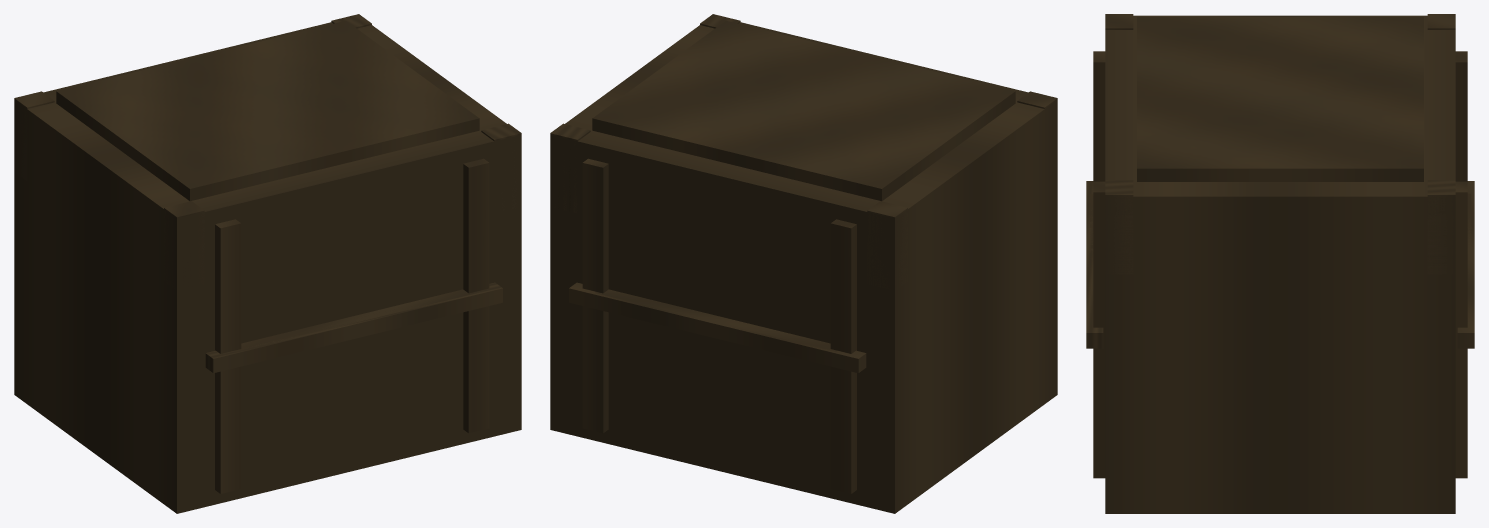
Rendered from prop_crate_military_a.glb.
3 renders of one model, left to right at view 1: azimuth 30°, elevation 25°; view 2: azimuth 150°, elevation 25°; view 3: azimuth 270°, elevation 25°, orthographic. The views are drawn at different scales.
Visible parts, largest first — view 1: prop_crate_military_a; view 2: prop_crate_military_a; view 3: prop_crate_military_a.
Part boxes in pixels (x1=…): prop_crate_military_a: x1=14, y1=14, x2=521, y2=513; prop_crate_military_a: x1=550, y1=14, x2=1057, y2=513; prop_crate_military_a: x1=1086, y1=14, x2=1474, y2=513.
Bounding box in the file's own units: 0.88 × 0.75 × 0.7982.
1 material, 1 textured.
